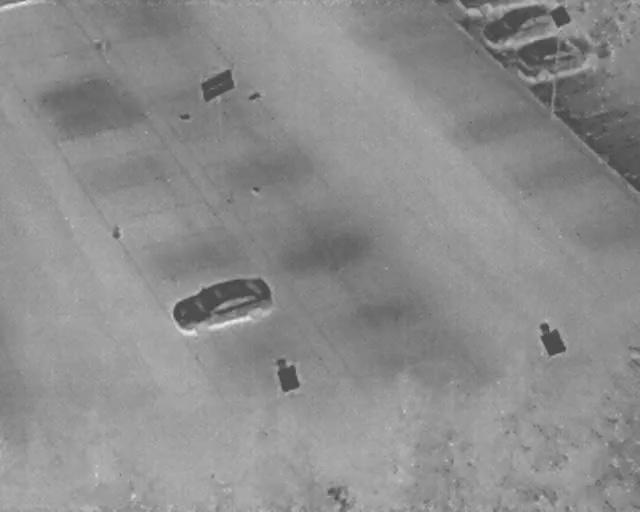Car: (166, 266, 279, 342), (507, 20, 599, 89), (478, 0, 560, 51)
